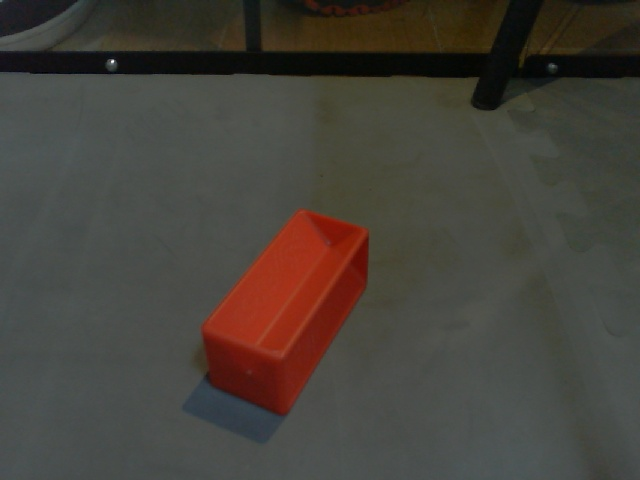RedSample: (199, 207, 371, 418)
